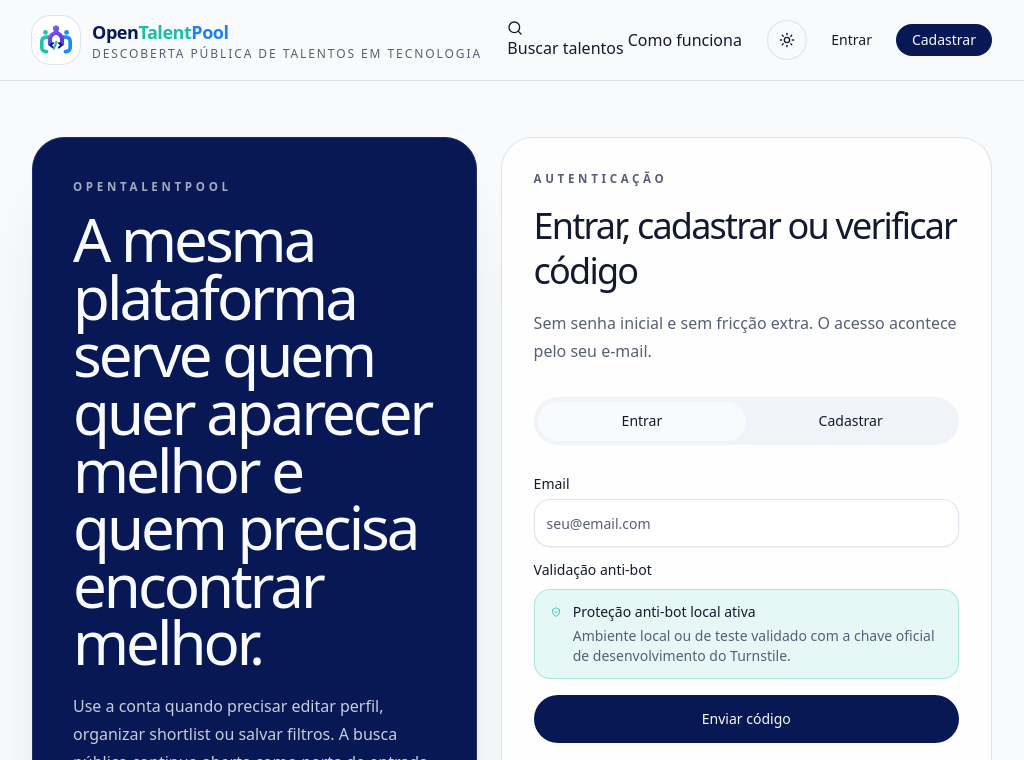
Test: Auth › mantém a falha de envio visível dentro do card de autenticação
Expected: the text "Proteção anti-bot local ativa" is shown, [573,602,756,621]
Type "gaellopes@protonmail.com" into the field labelled "Email" at (746, 523), box [534,499,959,547]
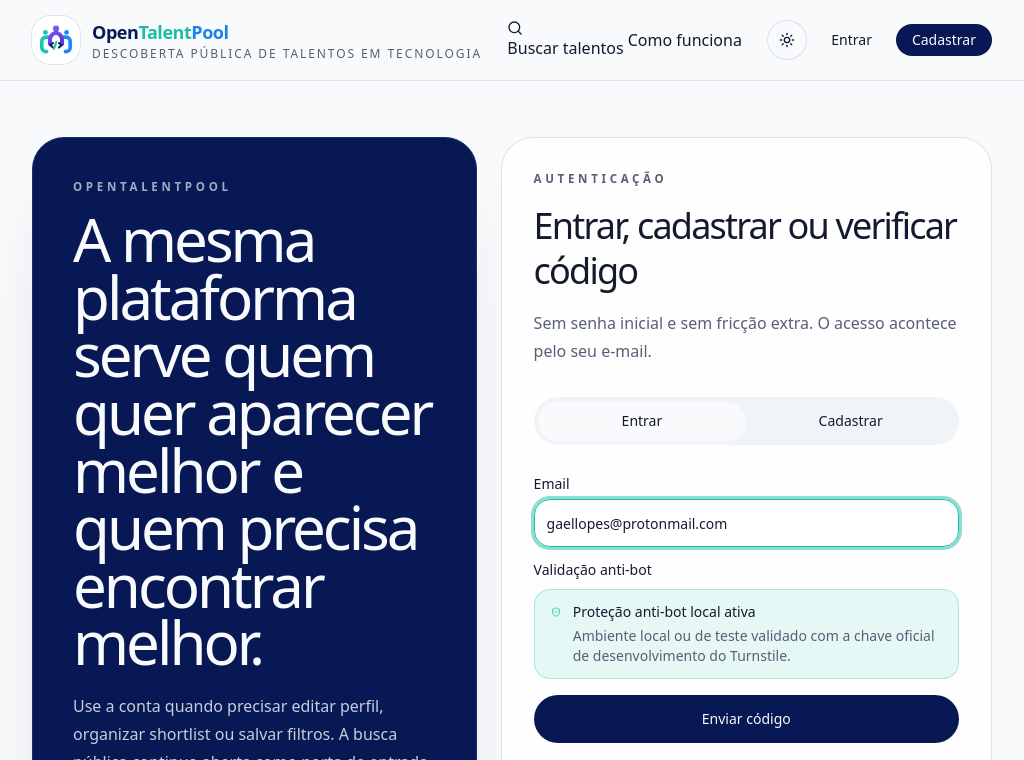
Click the button "Enviar código" at (746, 719), box [534,695,959,743]
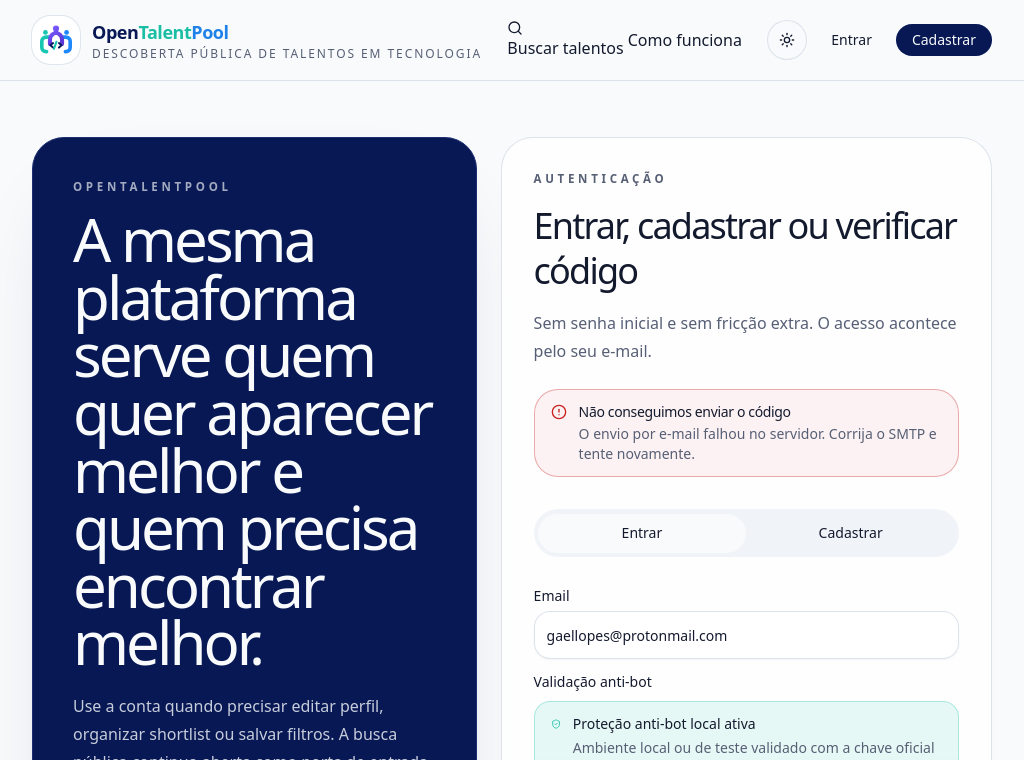
Expected: the heading "Não conseguimos enviar o código" is shown, [579,402,791,421]
Expected: the text "O envio por e-mail falhou no servidor" is shown, [579,424,937,463]
